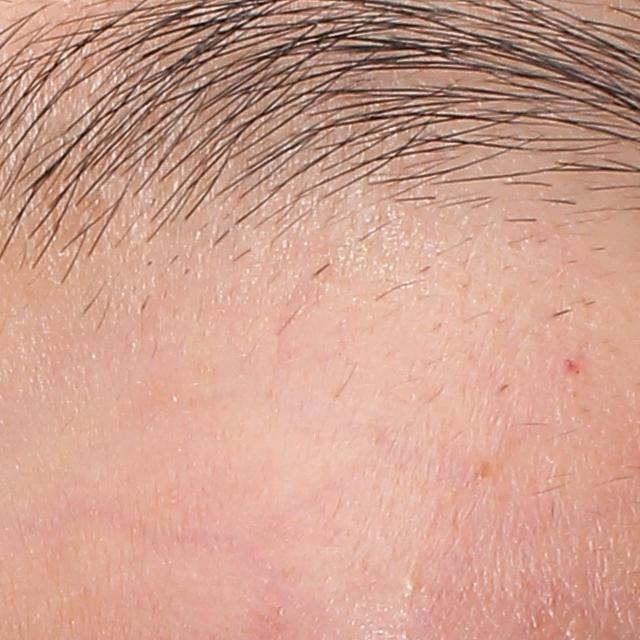comedo: (398, 577, 419, 597)
